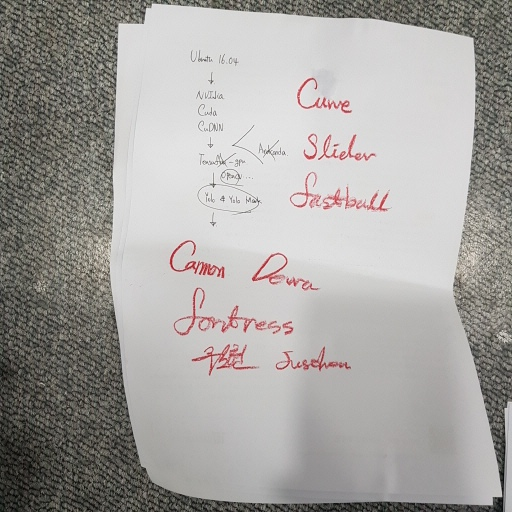Paper_3: (106, 1, 512, 495)
